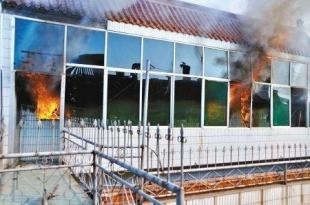fire: (25, 70, 61, 119), (230, 79, 250, 122)
